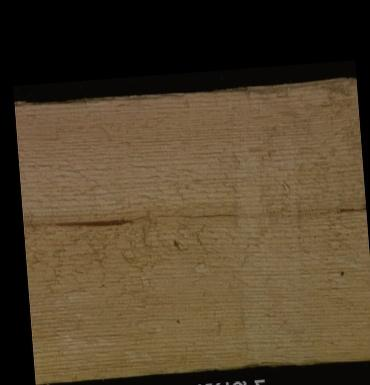split: (149, 202, 235, 232)
